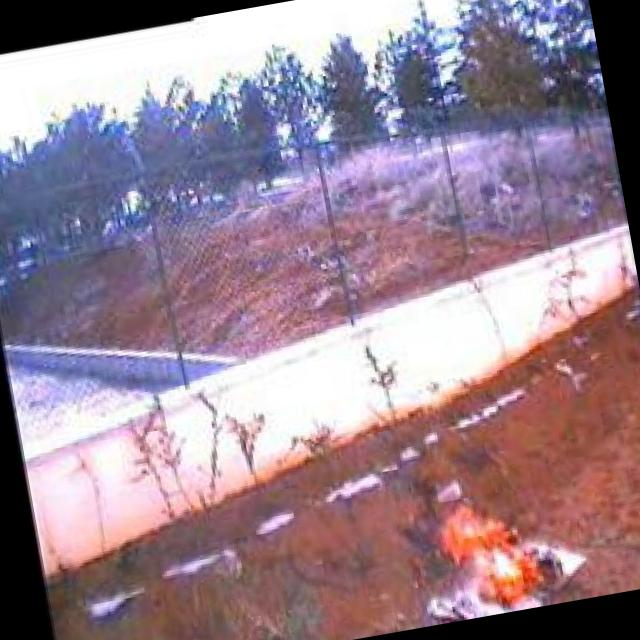Fire: (434, 486, 574, 622)
